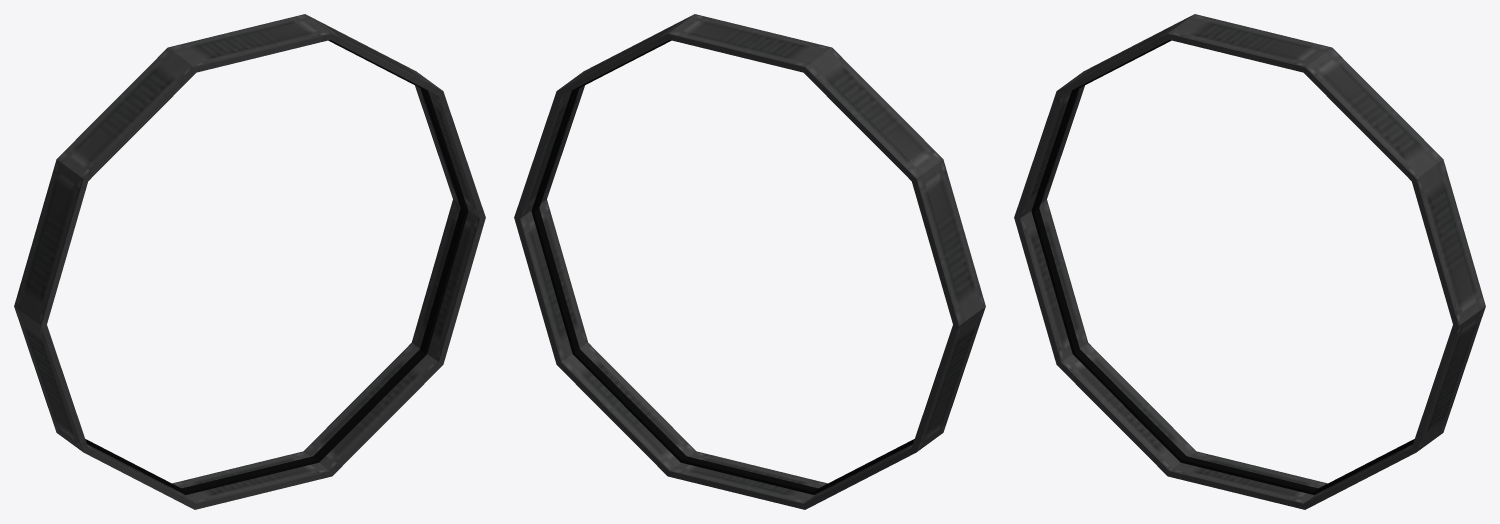
File: pm-colony-ring.glb
3 views of the same model, side by side, from view 1: azimuth 30°, elevation 25°; view 2: azimuth 150°, elevation 25°; view 3: azimuth 330°, elevation 25° (orthographic).
Parts seen in each view (by area): view 1: Colony_Ring_Art; view 2: Colony_Ring_Art; view 3: Colony_Ring_Art.
Part boxes in pixels (<box>): Colony_Ring_Art: <box>14,14,485,509</box>; Colony_Ring_Art: <box>514,14,985,509</box>; Colony_Ring_Art: <box>1014,14,1485,509</box>.
Bounding box in the file's own units: 7.13 × 6.78 × 0.7511.
2 materials, 2 textured.
